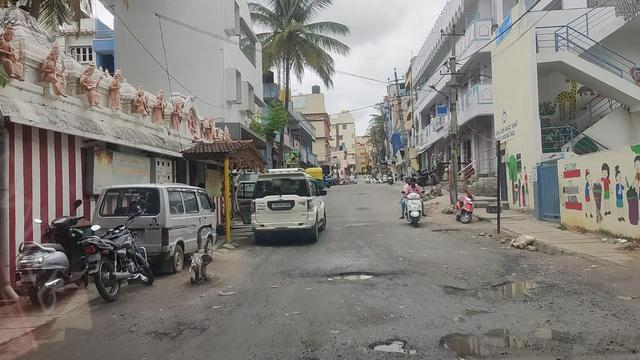LMV: (402, 176, 423, 226)
RoadDamages: (442, 273, 555, 303), (546, 321, 630, 360), (436, 328, 537, 360), (302, 268, 398, 285), (367, 333, 414, 360), (154, 322, 201, 346)
